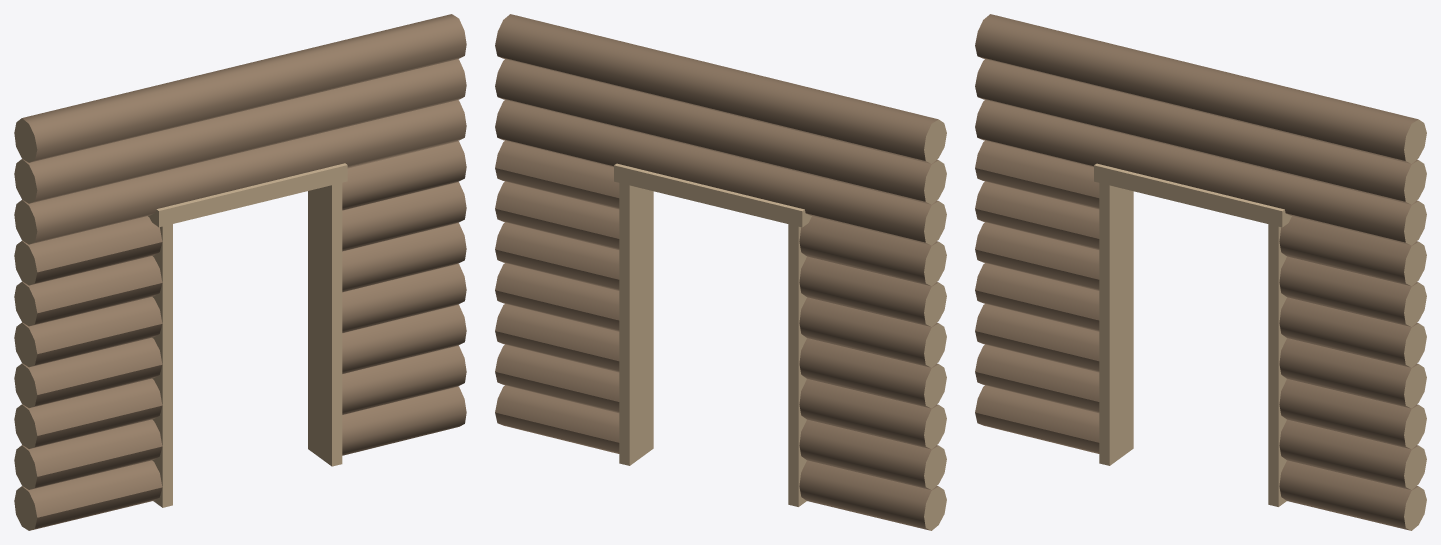
Rendered from log_wall_doorway.glb.
3 renders of one model, left to right at view 1: azimuth 30°, elevation 25°; view 2: azimuth 150°, elevation 25°; view 3: azimuth 330°, elevation 25°, orthographic.
Visible parts, largest first — view 1: Wall; view 2: Wall; view 3: Wall.
Boxes of the visible parts, bbox=[...] form: Wall: bbox=[14, 14, 466, 530]; Wall: bbox=[495, 14, 946, 530]; Wall: bbox=[975, 14, 1426, 530].
Size of the model in its own units: 3.3 by 3 by 0.34.
